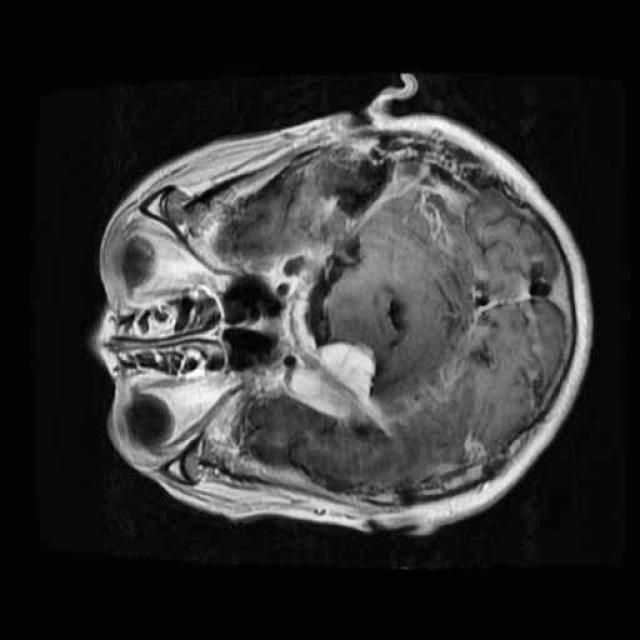Tumor: (285, 329, 386, 434)
